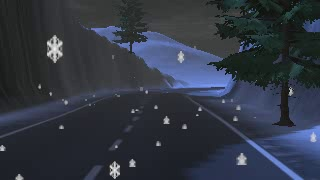Lane: (0, 87, 298, 179)
